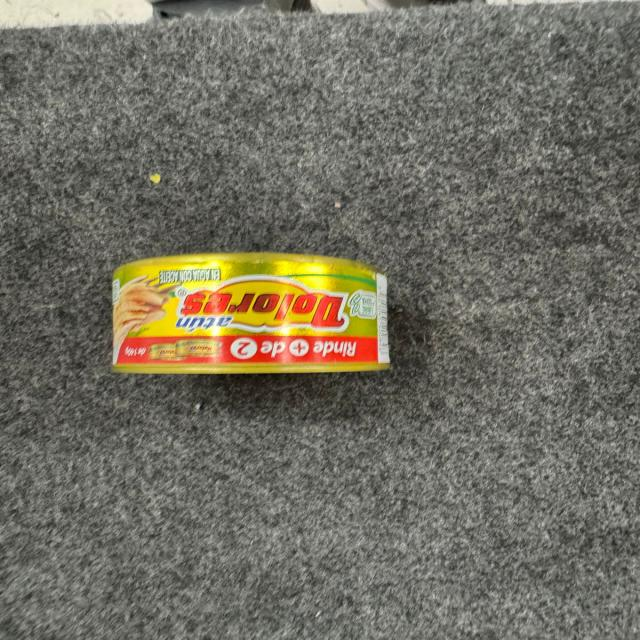Atun Dolores aceite 295gr lata: (107, 252, 394, 375)
